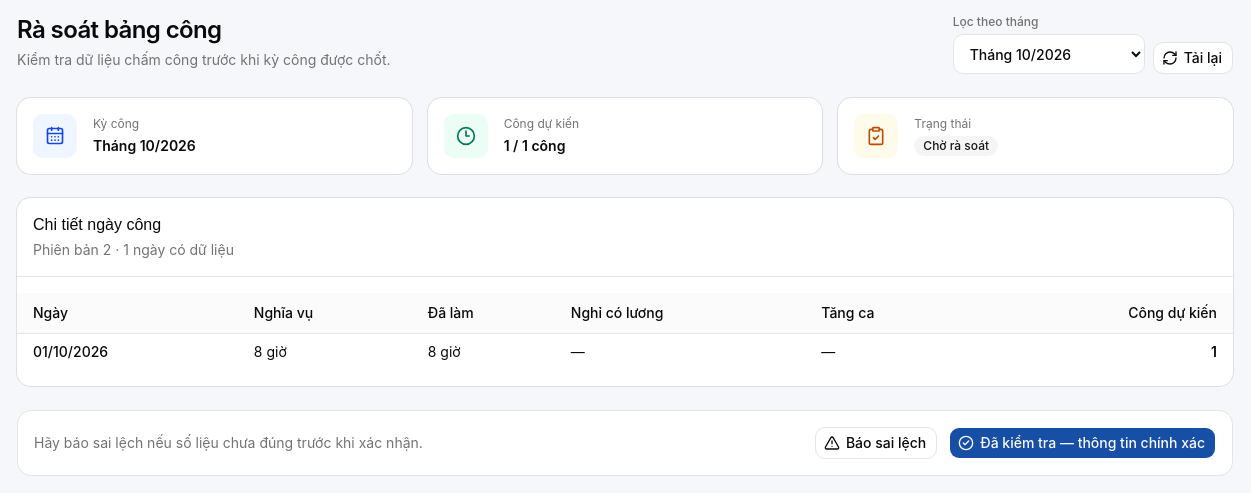
Test case: filters reviews by month
Select "Tháng 9/2026" in the dropdown named "Lọc kỳ công theo tháng": (1049, 54) [953,34,1145,74]
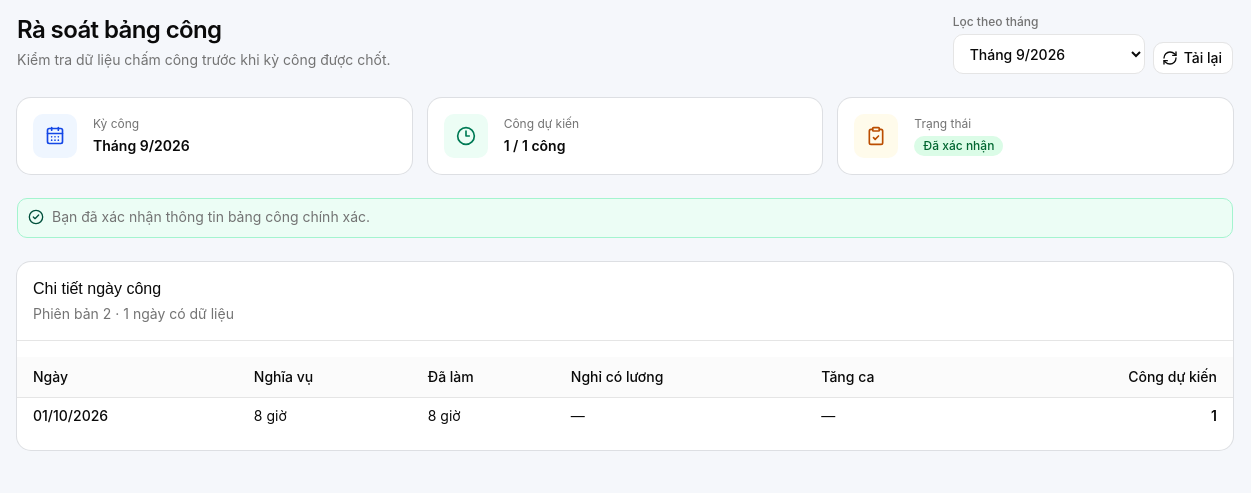
Expected: the text "Tháng 9/2026" is shown, [93,136,190,156]
Expected: the text "Bạn đã xác nhận thông tin bảng công chính xác." is shown, [52,208,370,225]
